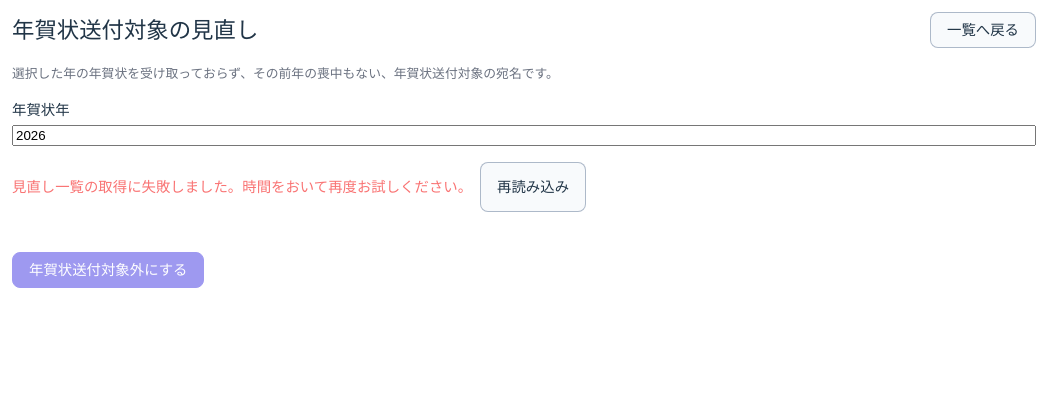
Test: NengaTargetReviewPage › reloads the same year after a load failure
Expected: the text "見直し一覧の取得に失敗しました。時間をおいて再度お試しください。" is shown, left=12, top=176, right=472, bottom=198
Click the button "再読み込み": (533, 187) left=480, top=162, right=586, bottom=212
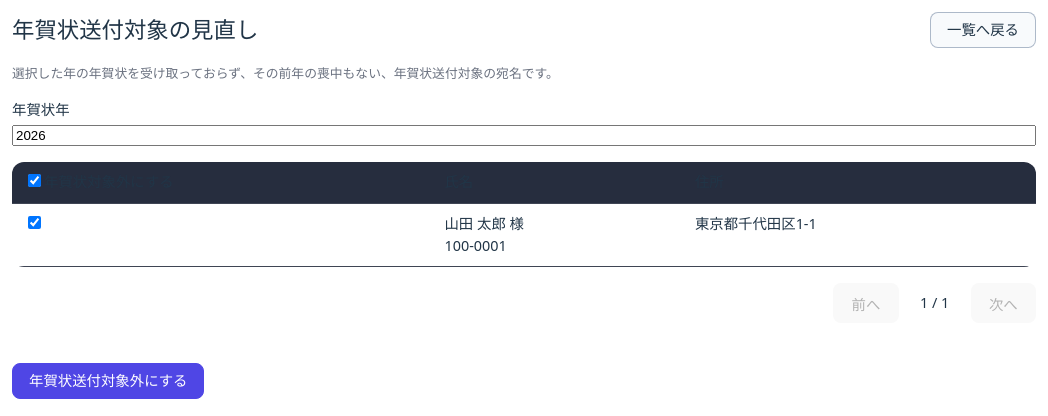
Now the checkbox named "山田 太郎 様 を年賀状対象外にする" is checked, box left=28, top=216, right=41, bottom=229
Now the text "見直し一覧の取得に失敗しました。時間をおいて再度お試しください。" is gone
